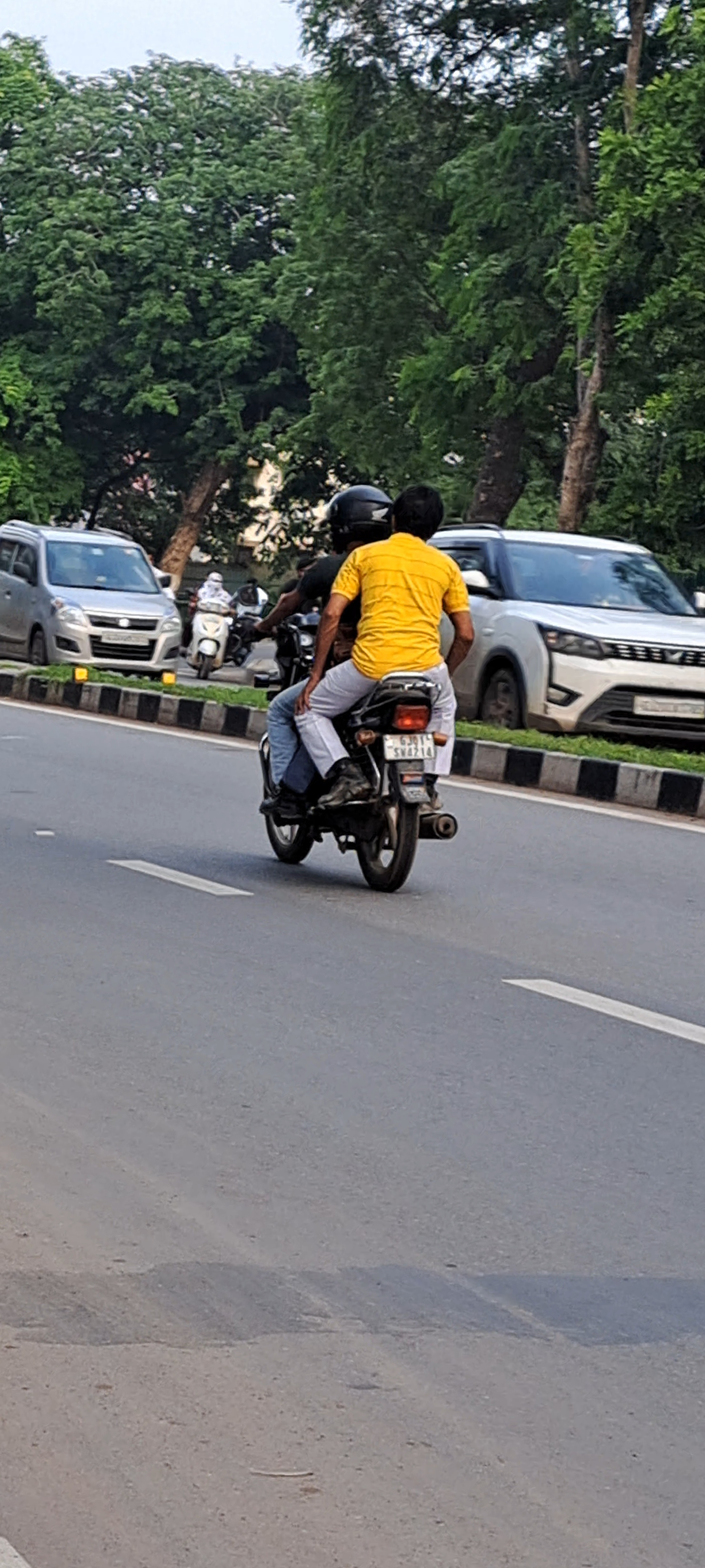BikeWithRider: (235, 483, 477, 894)
Helmet: (320, 488, 395, 547)
NoHelmet: (385, 483, 444, 549)
